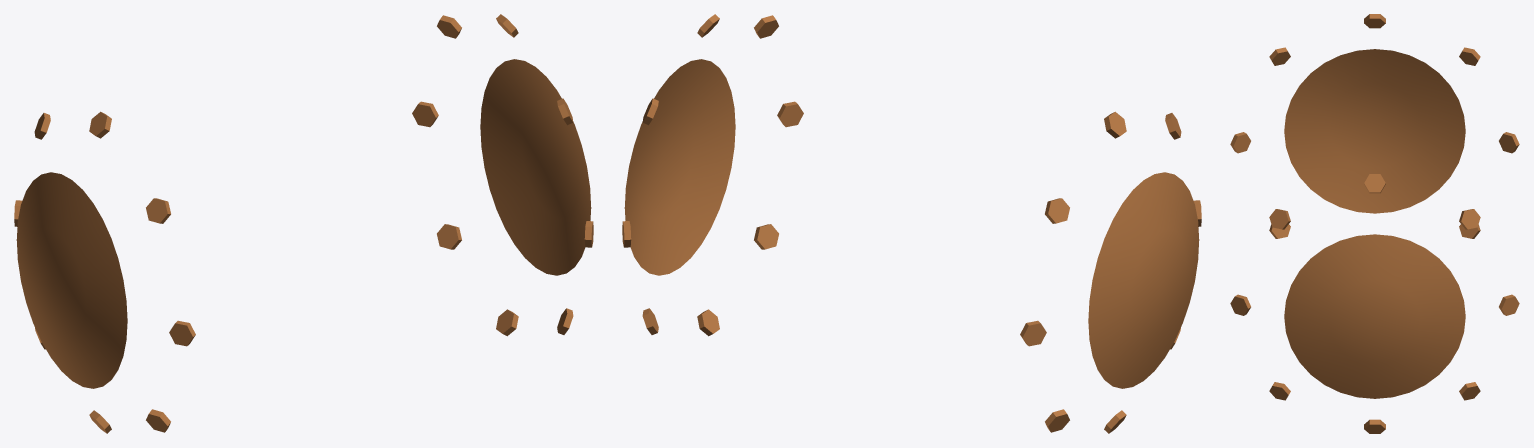
Rendered from ball_look_cutaway_c5.glb.
3 views of the same model, side by side, from view 1: azimuth 30°, elevation 25°; view 2: azimuth 150°, elevation 25°; view 3: azimuth 270°, elevation 25° (orthographic). The views are drawn at different scales.
Parts seen in each view (by area): view 1: Core; view 2: Core; view 3: Core.
Part boxes in pixels (bbox=[...]): Core: bbox=[14, 14, 593, 433]; Core: bbox=[622, 14, 1201, 433]; Core: bbox=[1230, 14, 1519, 433].
Bounding box in the file's own units: 1.97 × 1.19 × 1.2.
